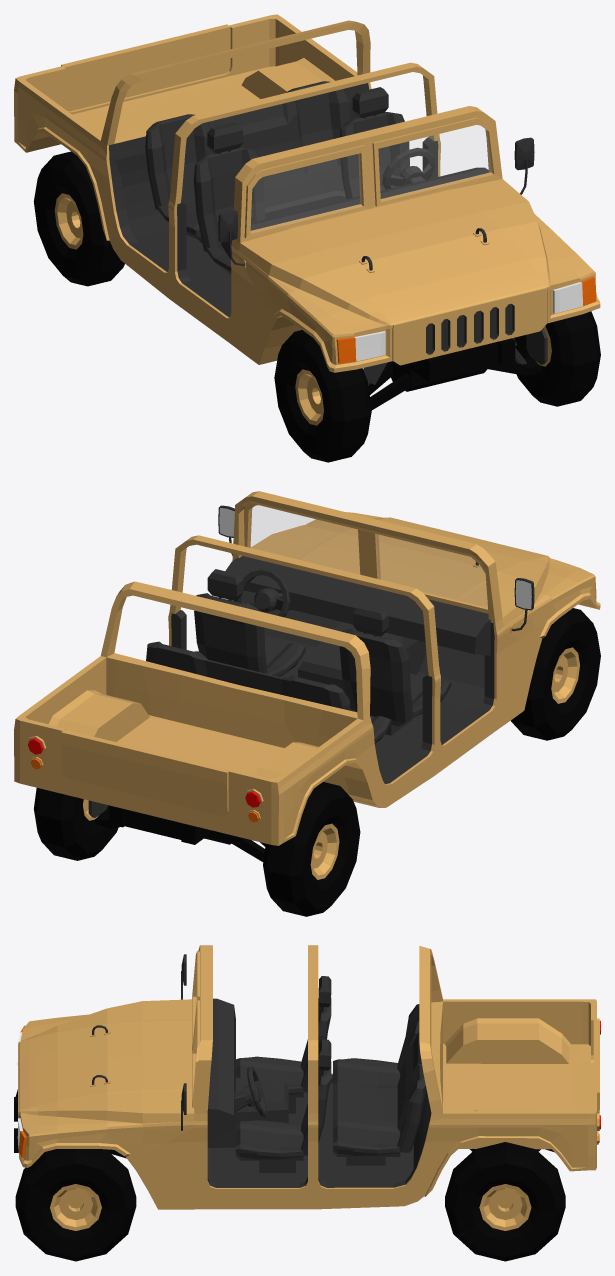
3 views of the same model, one above another, from view 1: azimuth 30°, elevation 25°; view 2: azimuth 150°, elevation 25°; view 3: azimuth 270°, elevation 25° (orthographic). The views are drawn at different scales.
Parts seen in each view (by area): view 1: Plane, Plane.001, Plane.002, Cylinder.002, Cylinder.001, Plane.003, Cylinder; view 2: Plane, Plane.001, Plane.002, Cylinder.001, Plane.003, Cylinder.002, Cylinder.003; view 3: Plane, Plane.001, Cylinder.003, Cylinder, Plane.003.
Boxes of the visible parts, x1=… form: Plane: x1=14, y1=14, x2=600, y2=410; Plane.001: x1=109, y1=81, x2=488, y2=317; Plane.002: x1=251, y1=125, x2=491, y2=231; Cylinder.002: x1=274, y1=330, x2=371, y2=462; Cylinder.001: x1=33, y1=151, x2=124, y2=286; Plane.003: x1=61, y1=24, x2=230, y2=111; Cylinder: x1=514, y1=311, x2=600, y2=406; Plane: x1=14, y1=491, x2=600, y2=861; Plane.001: x1=146, y1=556, x2=494, y2=783; Plane.002: x1=249, y1=506, x2=487, y2=606; Cylinder.001: x1=263, y1=782, x2=360, y2=916; Plane.003: x1=61, y1=729, x2=230, y2=816; Cylinder.002: x1=511, y1=608, x2=600, y2=740; Cylinder.003: x1=34, y1=788, x2=118, y2=860; Plane: x1=14, y1=945, x2=600, y2=1209; Plane.001: x1=207, y1=976, x2=431, y2=1187; Cylinder.003: x1=445, y1=1142, x2=565, y2=1261; Cylinder: x1=15, y1=1149, x2=136, y2=1261; Plane.003: x1=593, y1=1020, x2=599, y2=1113.
Size of the model in its own units: 242 by 176 by 438.
